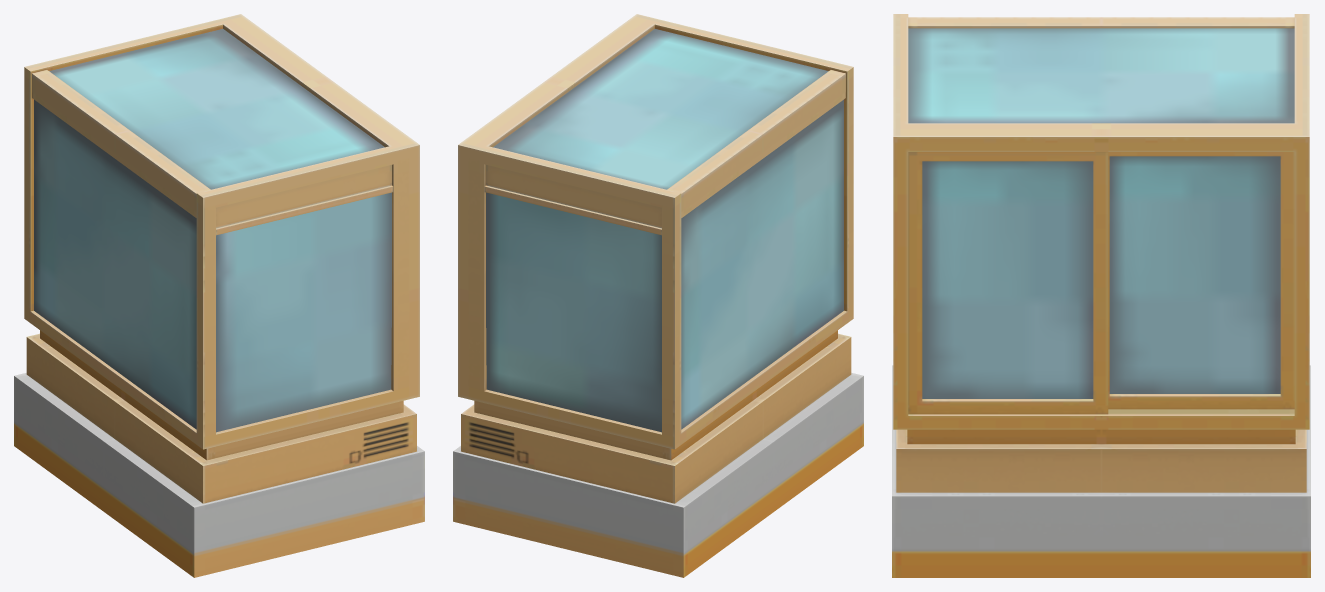
File: my_chocolatecafe_01_p_showcase.glb
The picture shows the model from 3 angles, left to right: view 1: azimuth 30°, elevation 25°; view 2: azimuth 150°, elevation 25°; view 3: azimuth 270°, elevation 25°; orthographic projection. The views are drawn at different scales.
Visible parts, largest first — view 1: my_chocolatecafe_01_p_showcase; view 2: my_chocolatecafe_01_p_showcase; view 3: my_chocolatecafe_01_p_showcase.
Boxes of the visible parts, box(x1,y1,x2,y2) form: my_chocolatecafe_01_p_showcase: box(14, 14, 424, 577); my_chocolatecafe_01_p_showcase: box(453, 14, 863, 577); my_chocolatecafe_01_p_showcase: box(892, 14, 1310, 577).
Size of the model in its own units: 0.00576 by 0.009 by 0.00779.
2 materials, 2 textured.
